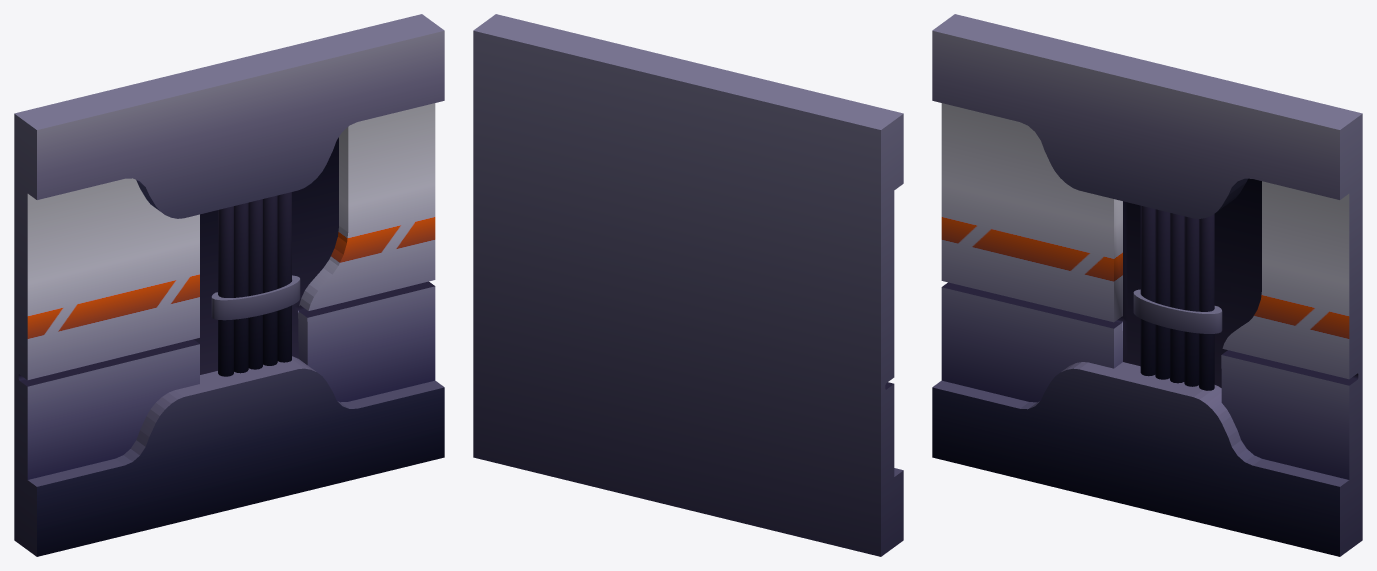
The model's file is Wall_ExposedPanel.fbx.
The picture shows the model from 3 angles, left to right: view 1: azimuth 30°, elevation 25°; view 2: azimuth 150°, elevation 25°; view 3: azimuth 330°, elevation 25°; orthographic projection.
Visible parts, largest first — view 1: TEXTURED_WT_ExposedPanel; view 2: TEXTURED_WT_ExposedPanel; view 3: TEXTURED_WT_ExposedPanel.
Boxes of the visible parts, box(x1,y1,x2,y2) form: TEXTURED_WT_ExposedPanel: box(14, 14, 444, 556); TEXTURED_WT_ExposedPanel: box(473, 14, 903, 556); TEXTURED_WT_ExposedPanel: box(932, 14, 1362, 556).
Bounding box in the file's own units: 2 × 2 × 0.1934.
1 material, 1 textured.
